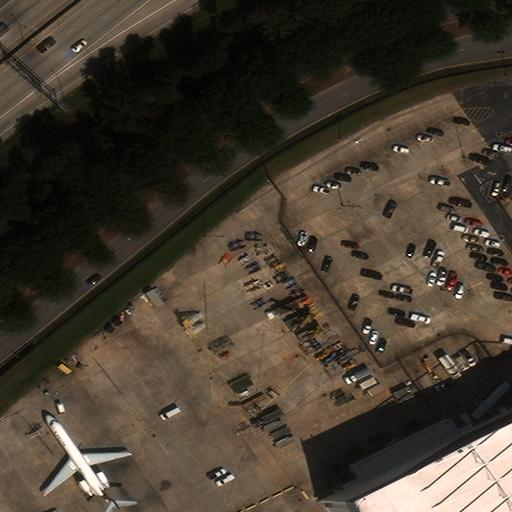Medium Civil Transport: (42, 414, 128, 509)
